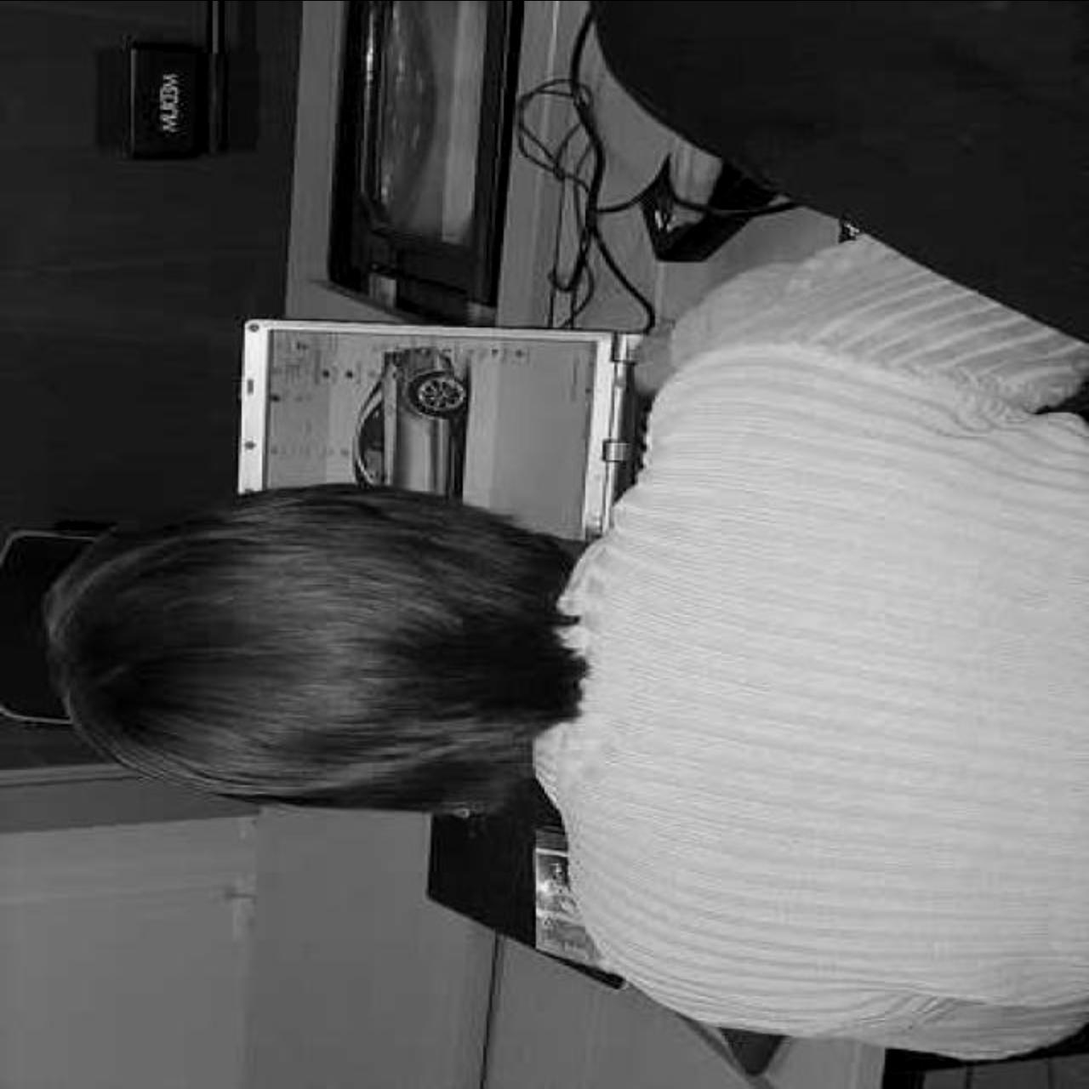laptop: (240, 313, 652, 749)
